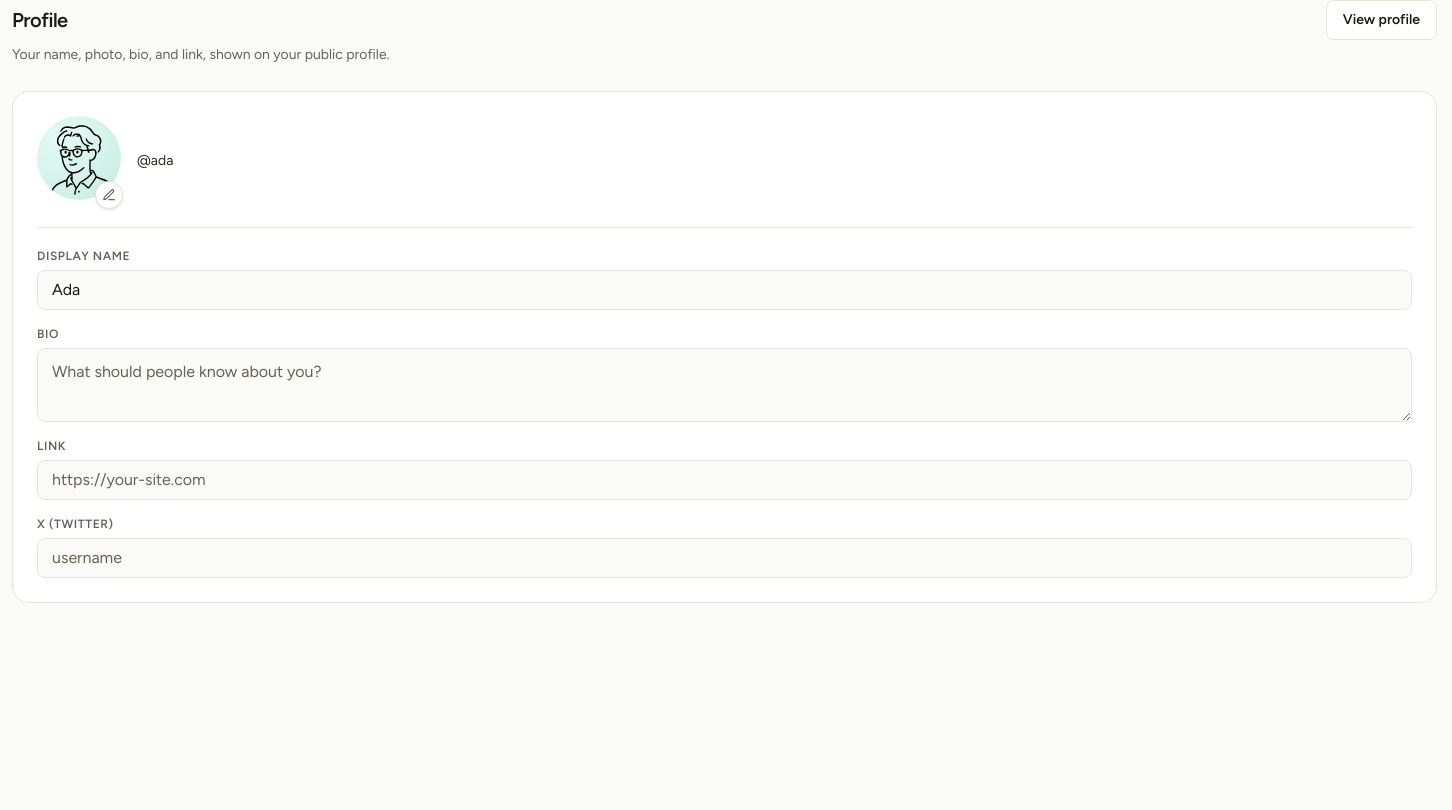
EditDisplayName › surfaces a server error and does not refresh
The image size is (1452, 810).
Replace the text in the field named "Display name" with "Mallory" at (724, 290), box [37, 270, 1412, 310]
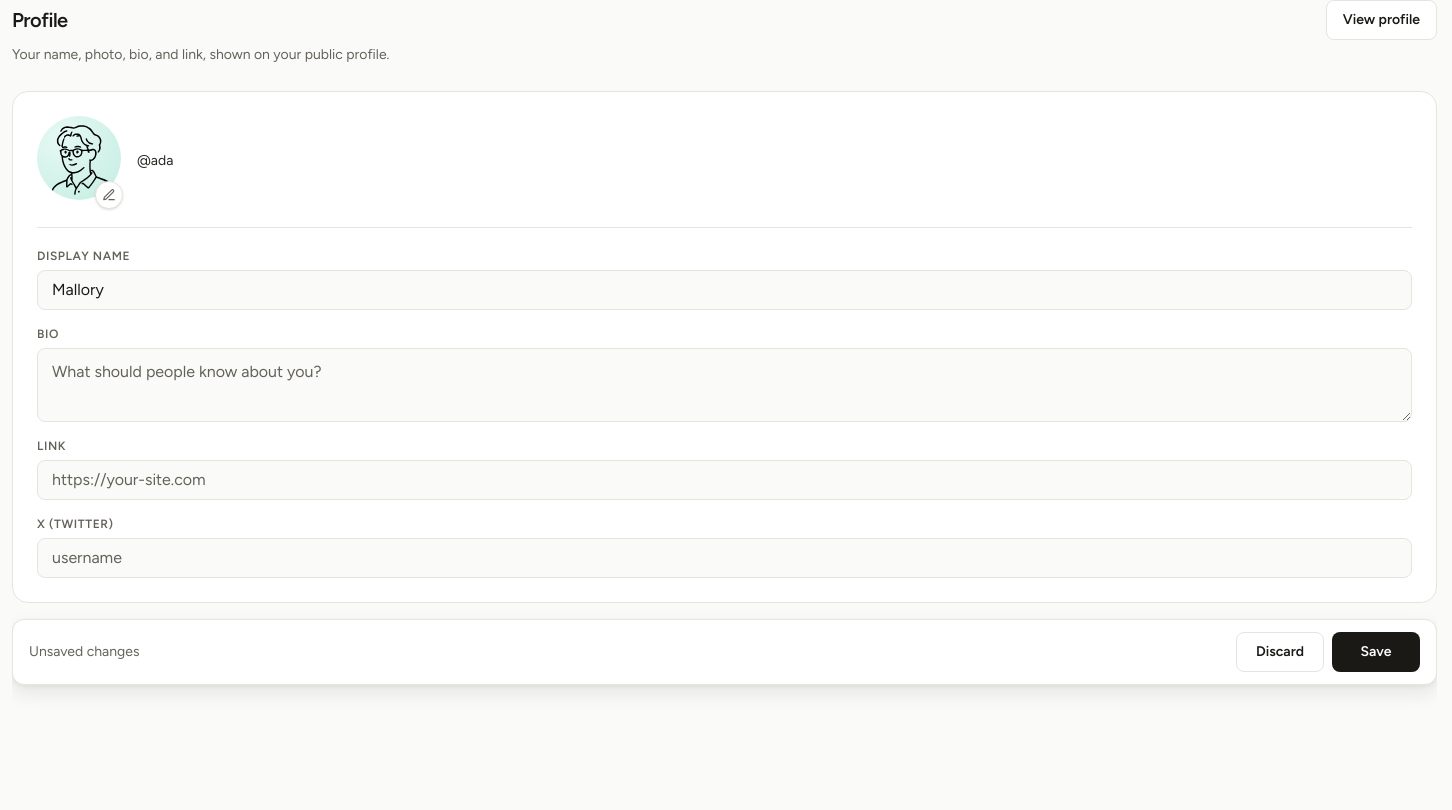
Click the button "Save" at (1376, 652), box [1332, 632, 1420, 672]
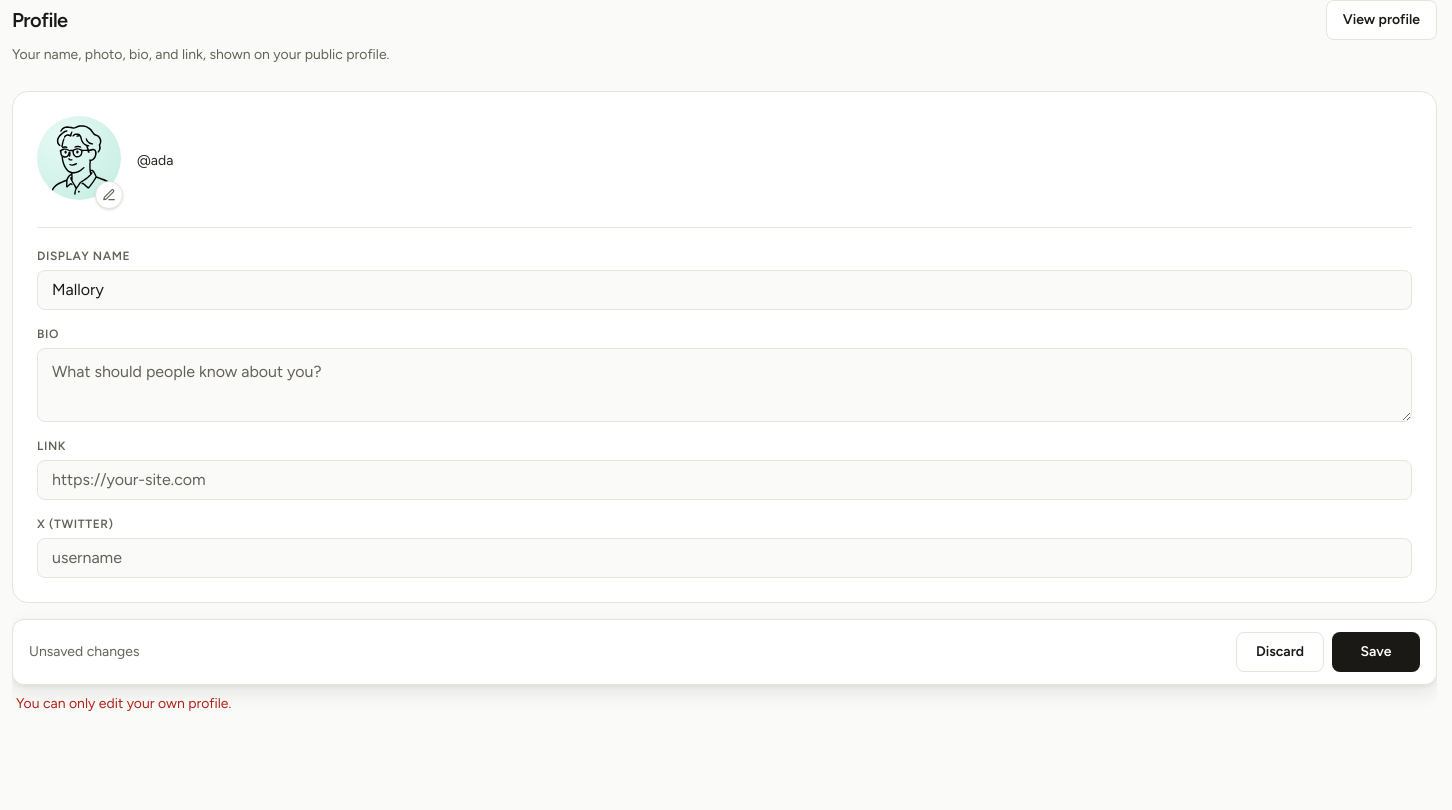
expect the message shows "your own profile": met, box [16, 695, 231, 712]
